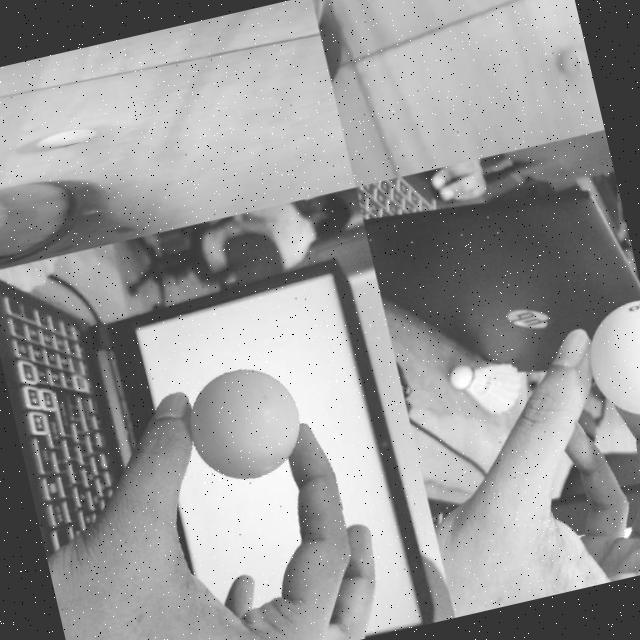ping-pong-ball: (180, 358, 310, 488), (580, 298, 640, 425), (36, 124, 98, 151), (560, 50, 590, 74)
